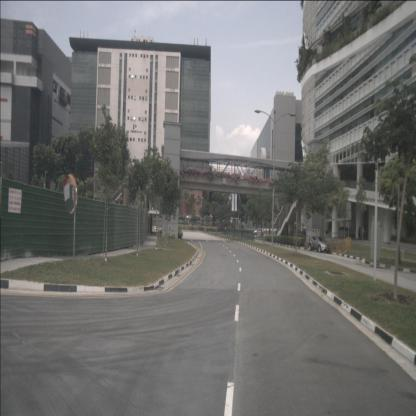human-pedestrian-adult: (358, 226, 361, 240), (191, 222, 193, 232)
vehicle-bicycle: (166, 227, 176, 238)
vehicle-car: (308, 236, 330, 253), (217, 224, 228, 233), (200, 216, 213, 223), (253, 228, 264, 236)
